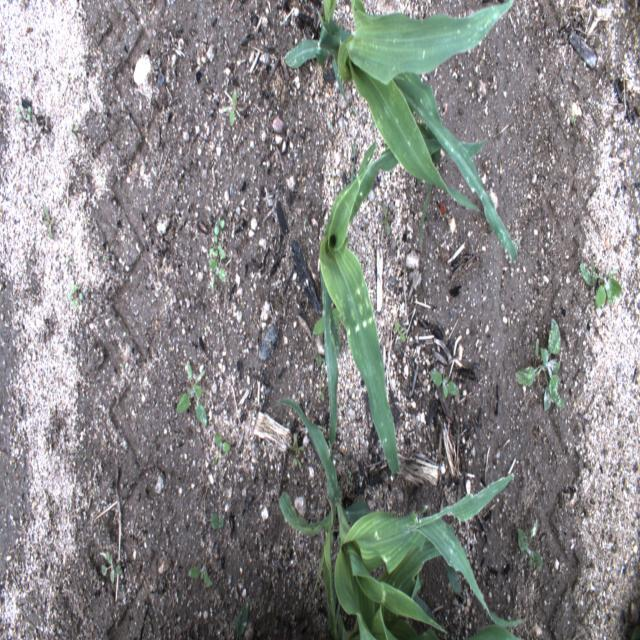crop: (284, 0, 521, 263), (275, 398, 526, 638), (319, 121, 443, 473), (465, 626, 523, 639)
weed: (516, 318, 564, 410), (176, 358, 206, 429), (580, 263, 622, 309), (518, 518, 541, 572), (429, 372, 460, 404), (313, 304, 343, 336), (218, 88, 238, 126), (100, 551, 121, 584), (208, 248, 225, 288), (186, 566, 214, 587), (196, 513, 224, 534), (213, 433, 230, 467), (236, 600, 249, 640), (379, 202, 393, 236), (43, 204, 55, 240), (67, 284, 83, 306), (65, 120, 80, 142), (290, 433, 304, 456), (394, 320, 406, 346), (315, 354, 327, 375), (210, 236, 222, 256), (290, 452, 302, 471), (319, 380, 329, 400), (214, 220, 225, 236), (631, 624, 639, 640), (26, 105, 32, 124), (16, 106, 21, 122), (347, 467, 351, 482), (13, 462, 17, 474), (82, 454, 88, 462)
